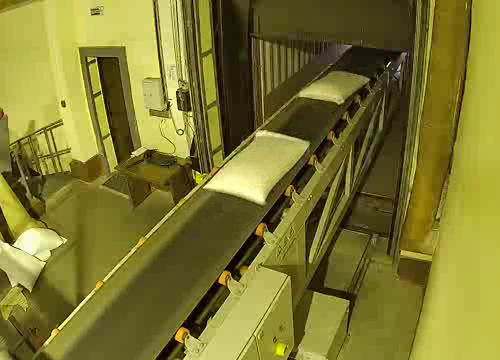bag: (201, 128, 313, 206), (296, 69, 373, 106)
